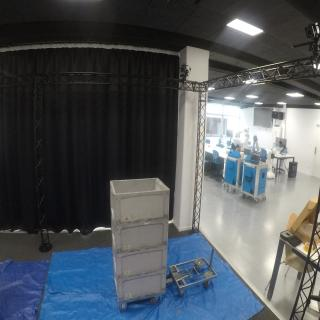Box4G: (108, 176, 173, 228), (111, 218, 171, 256), (111, 244, 169, 281), (114, 269, 170, 305)
